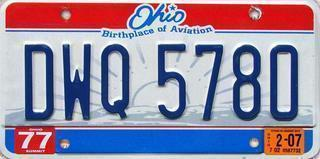placa de veiculo: (6, 2, 317, 156)
